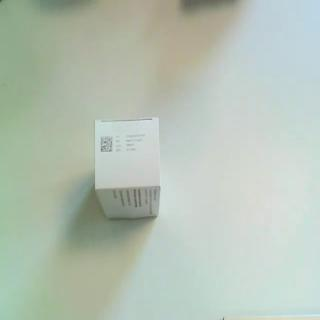oxycontin10mg: (93, 116, 163, 222)
